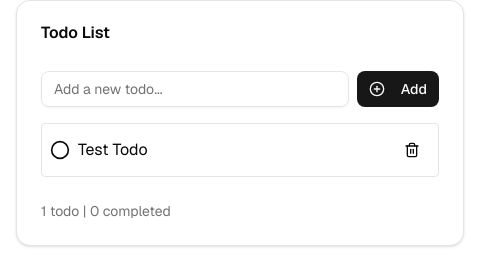
Test: Todo Component › deletes a todo when delete button is clicked
This screenshot has width=481, height=264.
Check: the text "Test Todo" is shown, box [78, 138, 148, 162]
Click the button with test id "delete-todo-1" at coordinates (412, 150), box [394, 132, 430, 168]
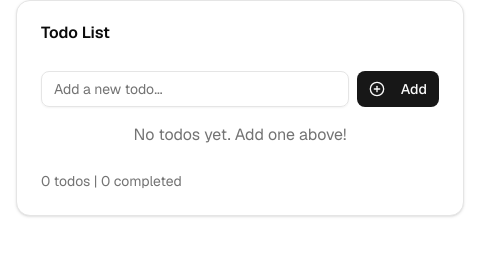
Check: the text "Test Todo" is gone
Check: the text "No todos yet. Add one above!" is shown, box [134, 124, 346, 145]
